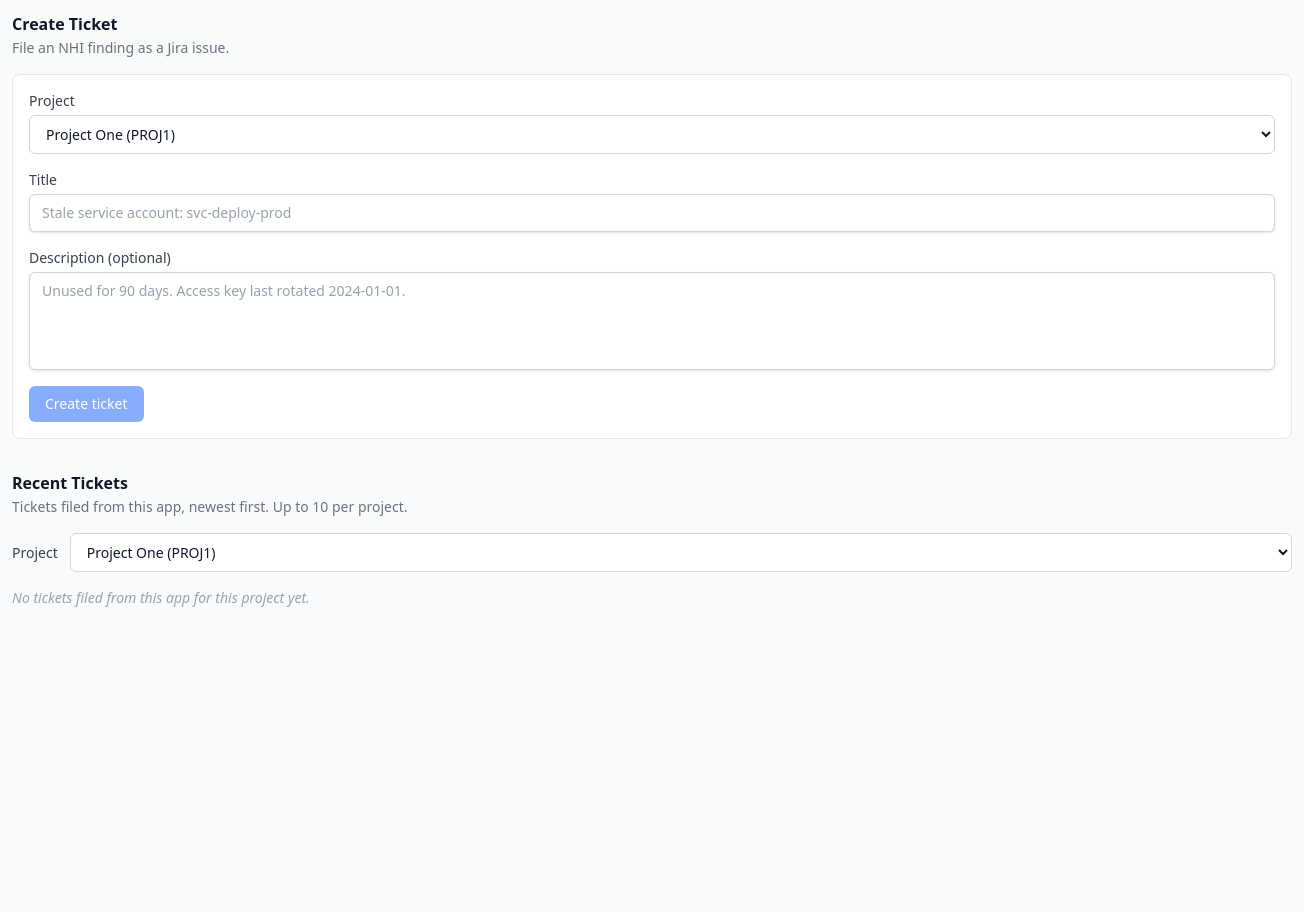
Test: TicketsSection — create ticket (errors) › shows a rate-limited banner for RATE_LIMITED
The image size is (1304, 912).
expect the number of dropdowns labelled "Project" is 2: met, box [29,115,1275,154]; [70,533,1292,572]
In the field labelled "Title": (652, 213) [29,194,1275,232], type "ticket"
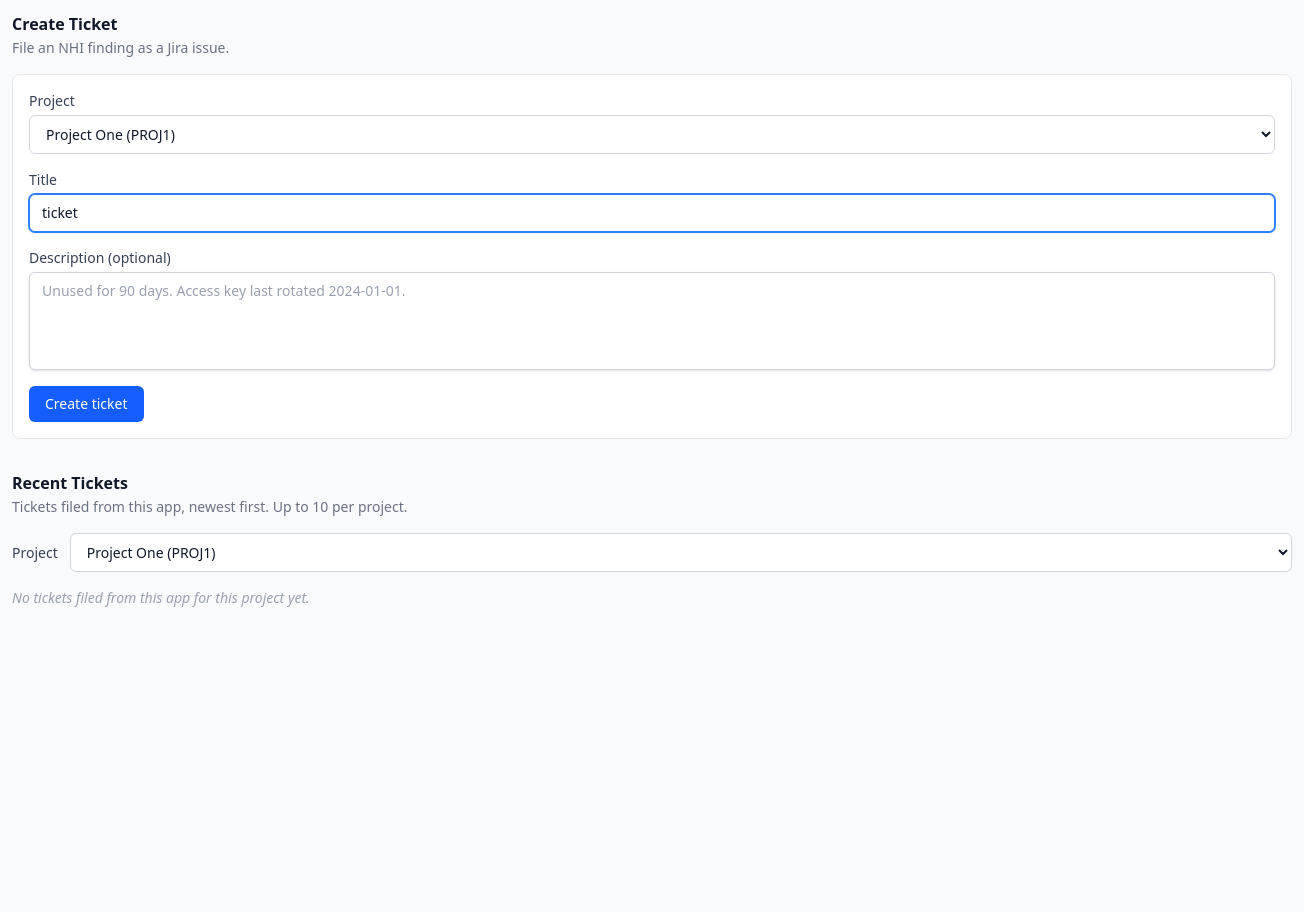
Click the button "Create ticket": (86, 404) [29,386,144,422]
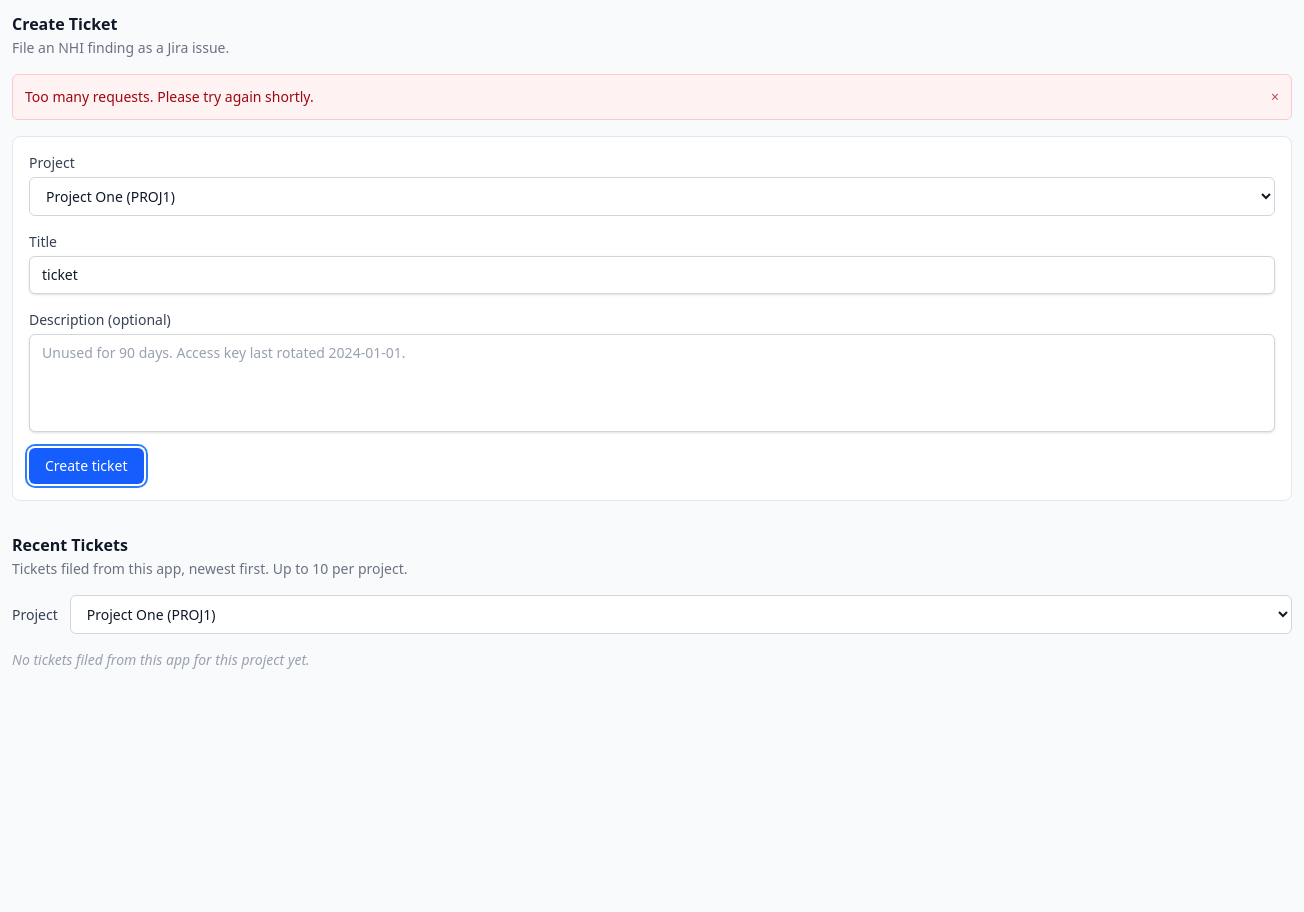
expect the text "Too many requests. Please try again shortly." is shown: met, box [25,87,314,106]
